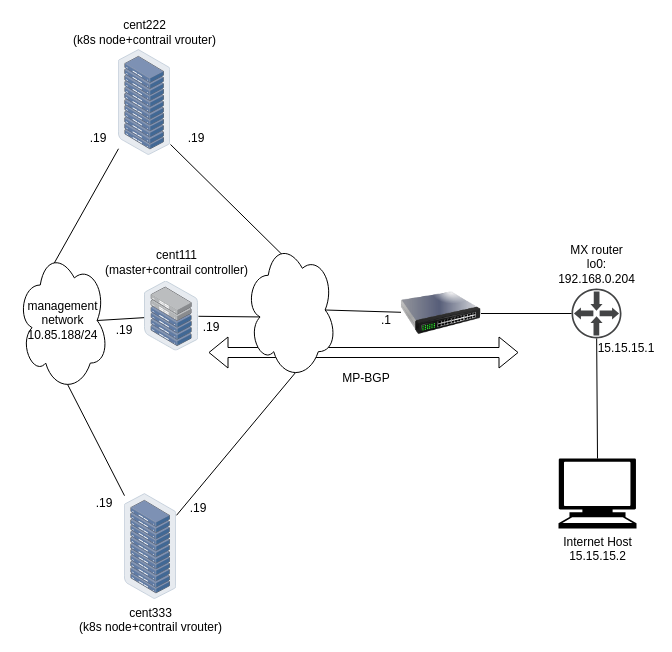
This 672x652 diagram has some shape labels left out. The shapes that lost their labels are listed below. From the top down, each one's centre as x and y in pixels, then its label:
the point at 290,310: fabric network 10.169.25/24
the point at 440,313: QFX switch
